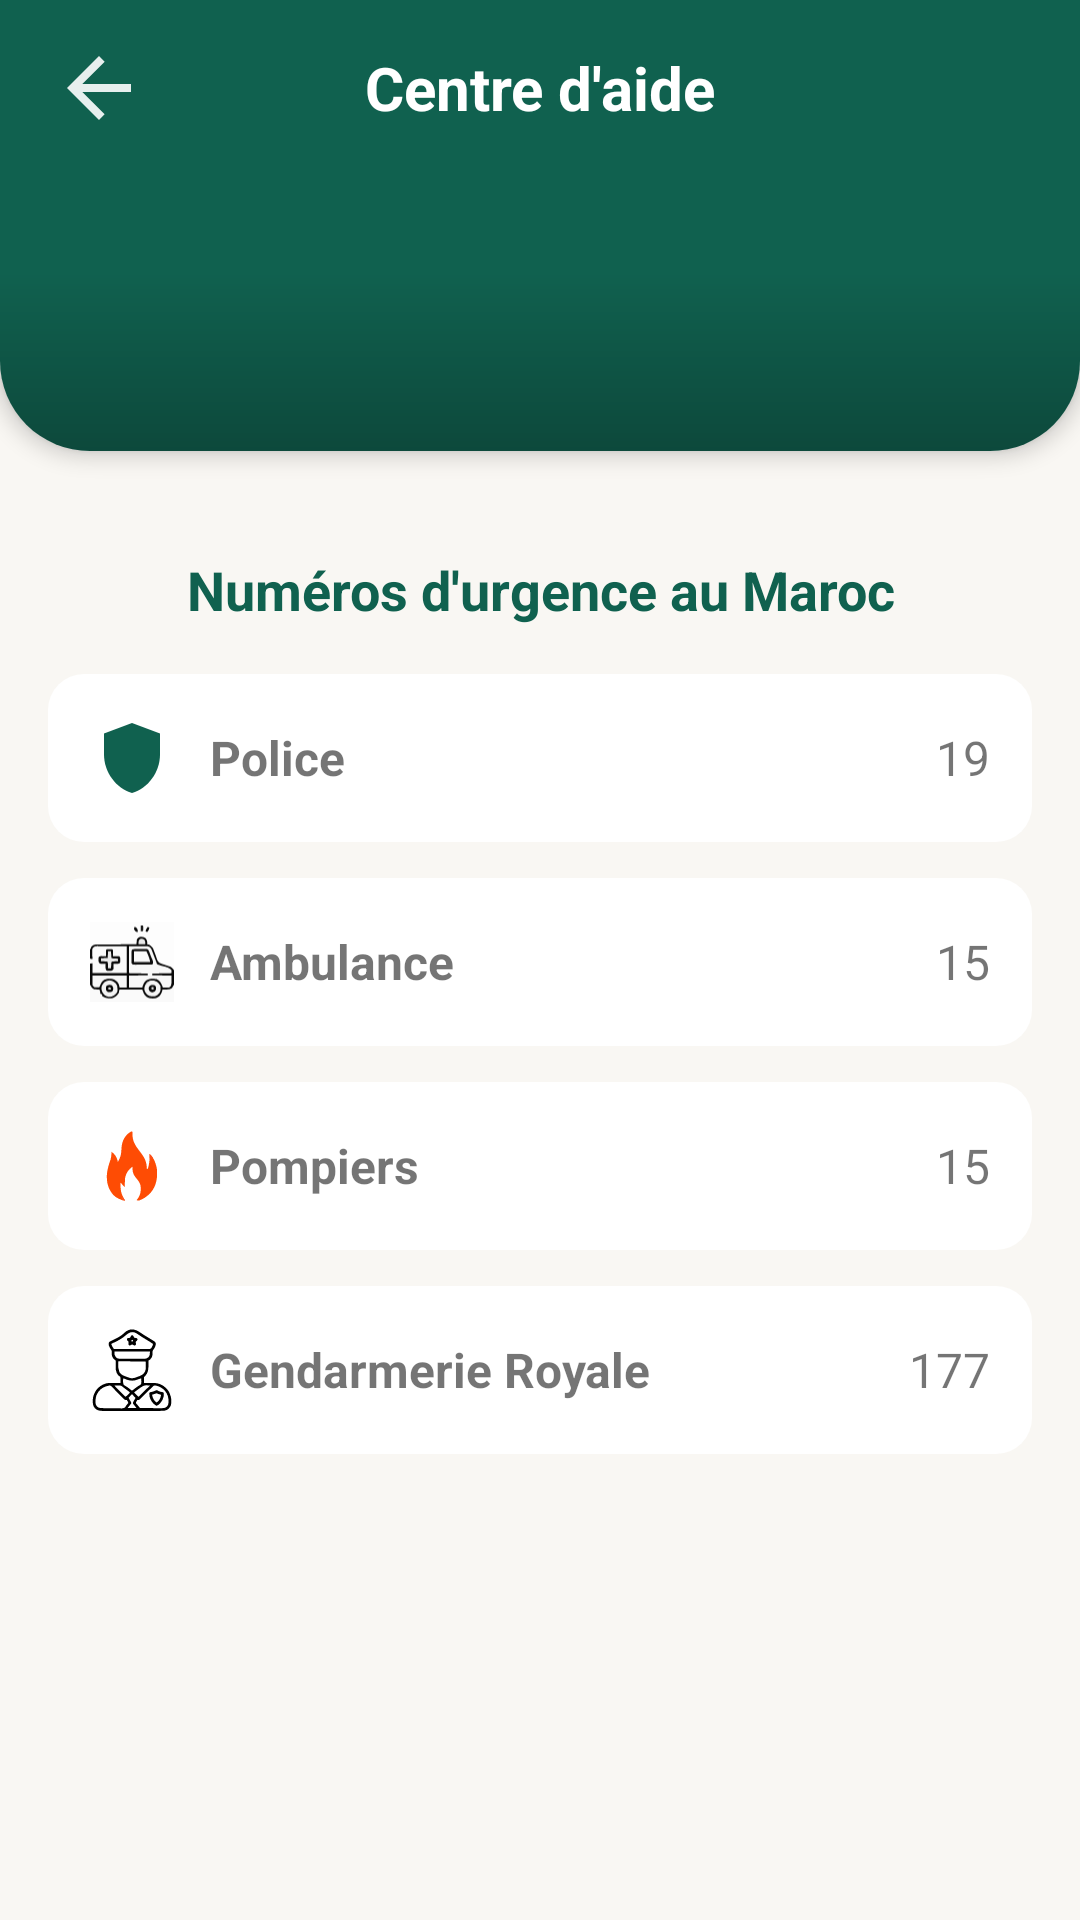

Named icons in this screenshot (1080 x 1920) and their bounding boxes, bbox=(x1, y1, x2, y2):
fire: bbox=(106, 1131, 157, 1201)
Retour: bbox=(67, 56, 131, 120)
